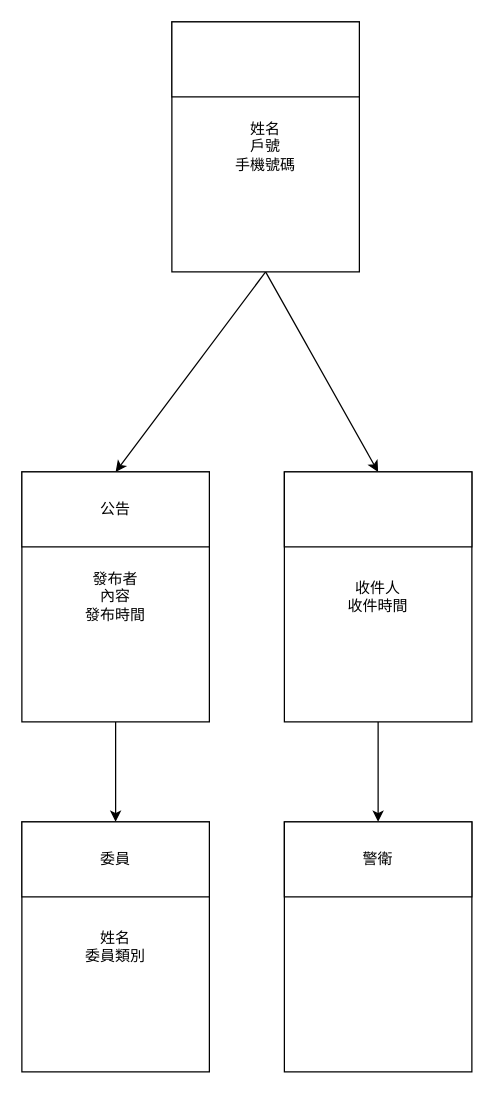
Some shapes in this 494 by 1094 pixel diagram are drawn without their labels. The shapes that lost their labels are listed below. From the top down, each one's box as (x1, y1, x2, y2) in pixels, then its label:
(171, 21, 359, 97): 住戶
(283, 471, 472, 547): 信件和包裹
(283, 821, 472, 1072): 姓名
